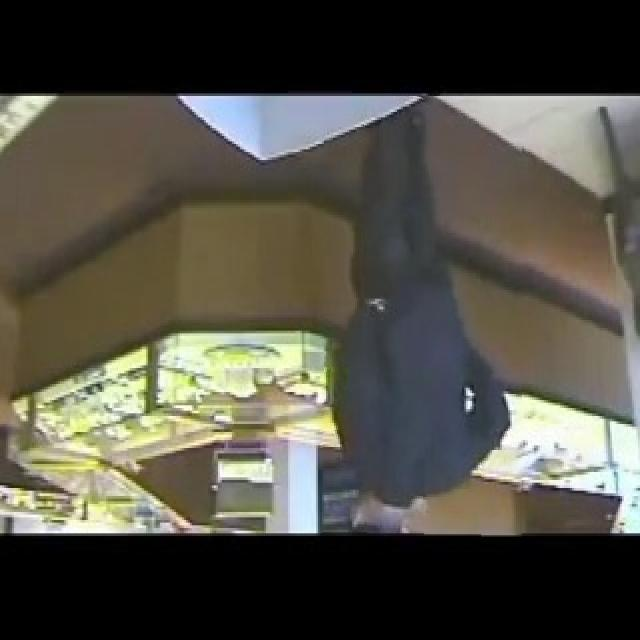Normal: (324, 96, 528, 536)
